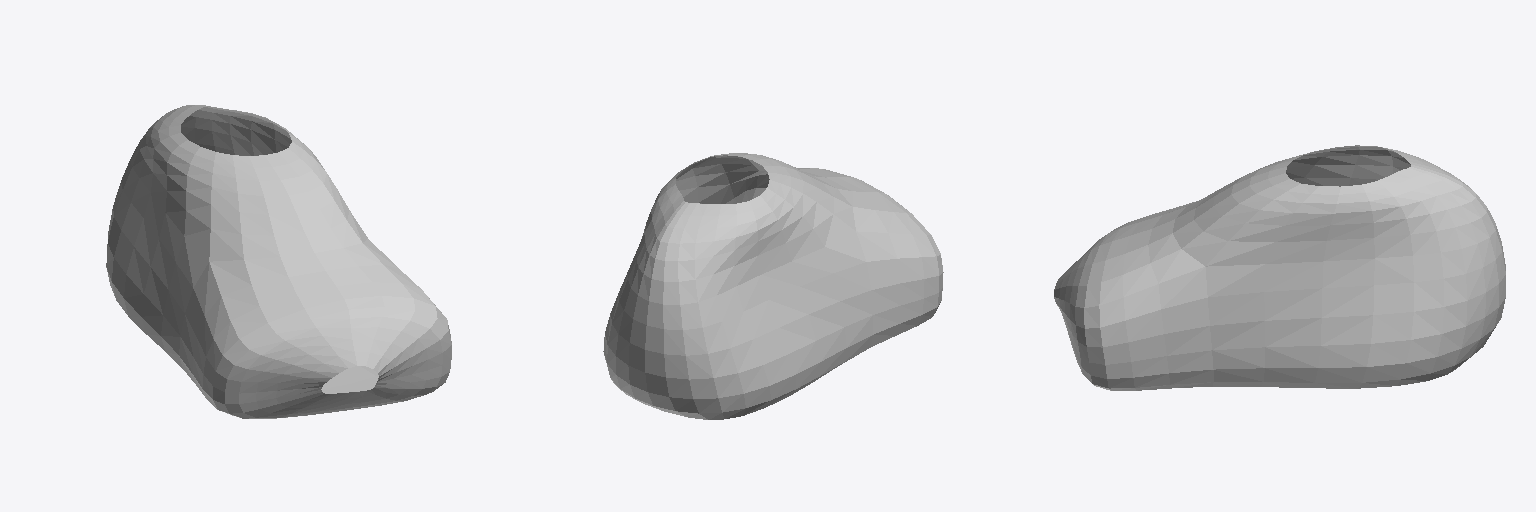
Rendered from rfoot.obj.
3 renders of one model, left to right at view 1: azimuth 30°, elevation 25°; view 2: azimuth 150°, elevation 25°; view 3: azimuth 270°, elevation 25°, orthographic.
Parts seen in each view (by area): view 1: 6; view 2: 6; view 3: 6.
Boxes of the visible parts, <box> form: 6: <box>106,105,451,418</box>; 6: <box>603,153,943,419</box>; 6: <box>1054,145,1505,390</box>.
Size of the model in its own units: 0.1033 by 0.0905 by 0.1893.